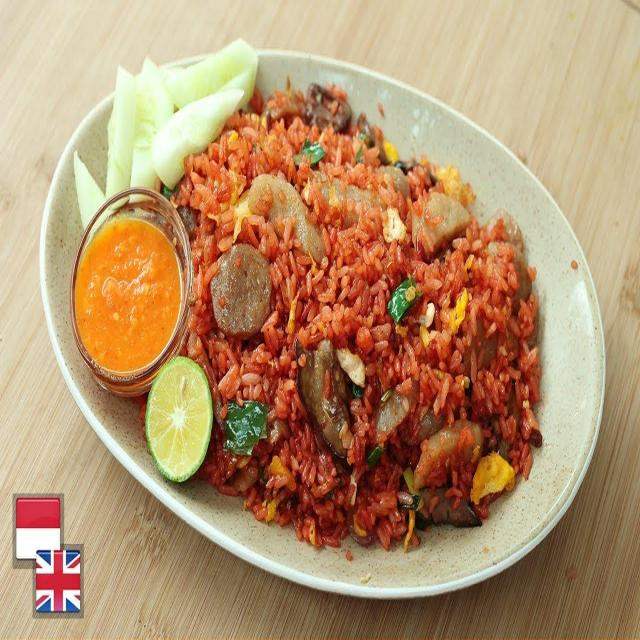Nasi Goreng: (195, 104, 534, 522)
